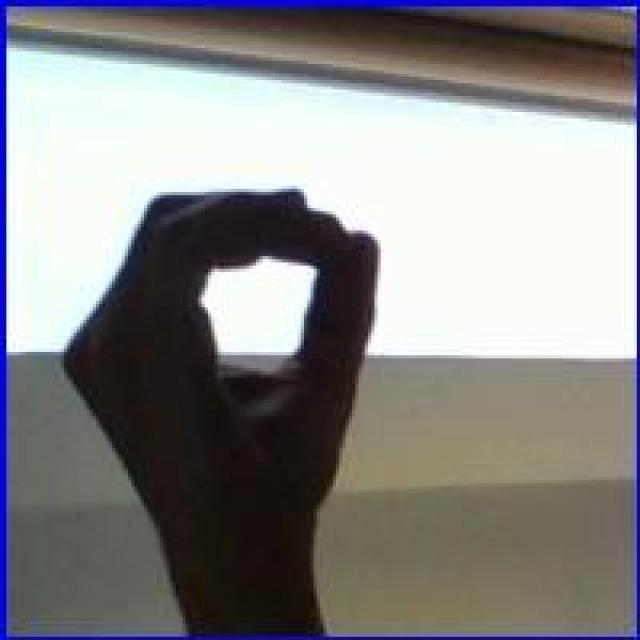O: (58, 181, 387, 526)
